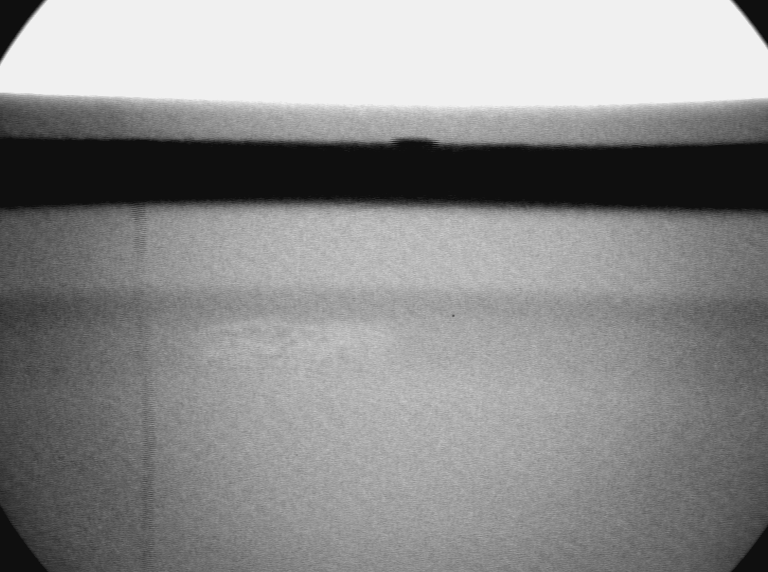defect: (185, 309, 379, 384)
